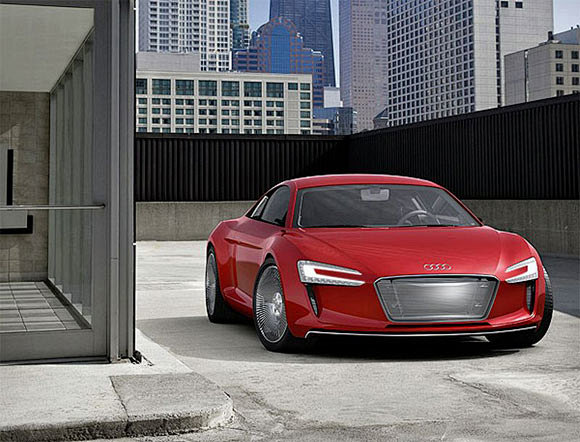other: (206, 176, 556, 357)
